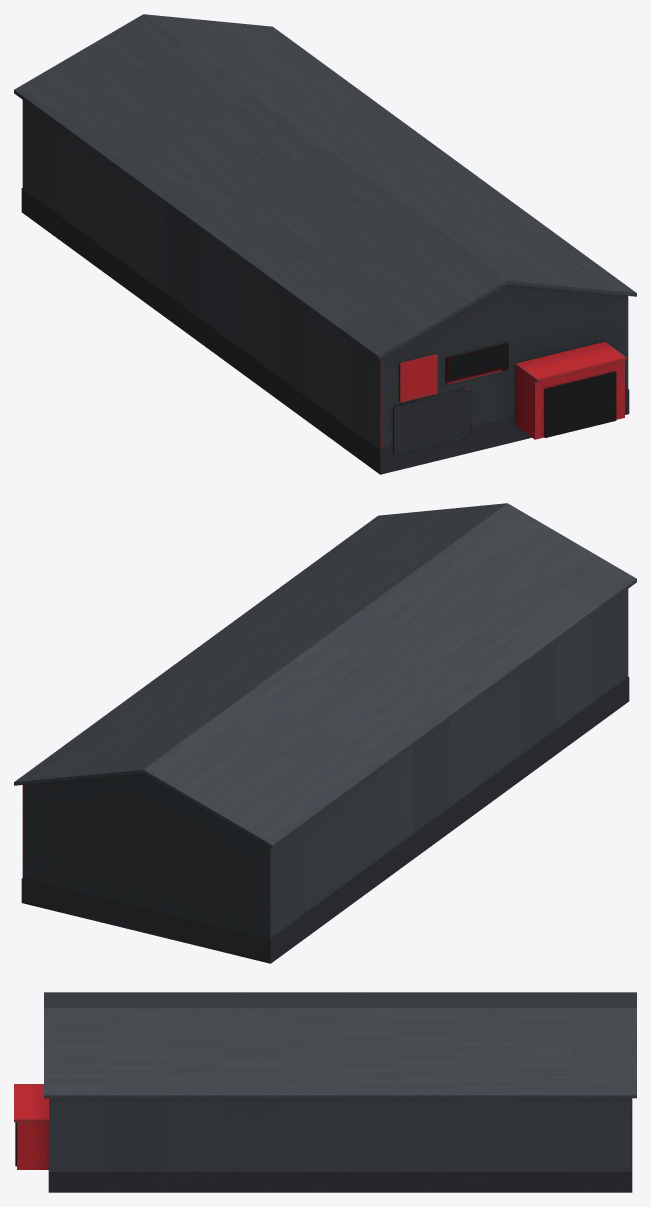
The model's file is zuh.glb.
3 renders of one model, top to bottom at view 1: azimuth 30°, elevation 25°; view 2: azimuth 150°, elevation 25°; view 3: azimuth 270°, elevation 25°, orthographic. The views are drawn at different scales.
Parts seen in each view (by area): view 1: zuh; view 2: zuh; view 3: zuh.
Boxes of the visible parts, x1=… form: zuh: x1=14, y1=14, x2=636, y2=474; zuh: x1=14, y1=503, x2=636, y2=963; zuh: x1=14, y1=992, x2=636, y2=1192.
Size of the model in its own units: 16.7 by 10.22 by 42.75.
Materials: 1 (1 with a texture image).
